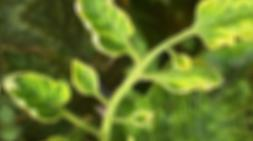Tomato leaf yellow virus: (2, 59, 81, 133), (149, 50, 228, 106), (75, 0, 143, 63), (181, 0, 251, 60), (70, 54, 104, 101)
